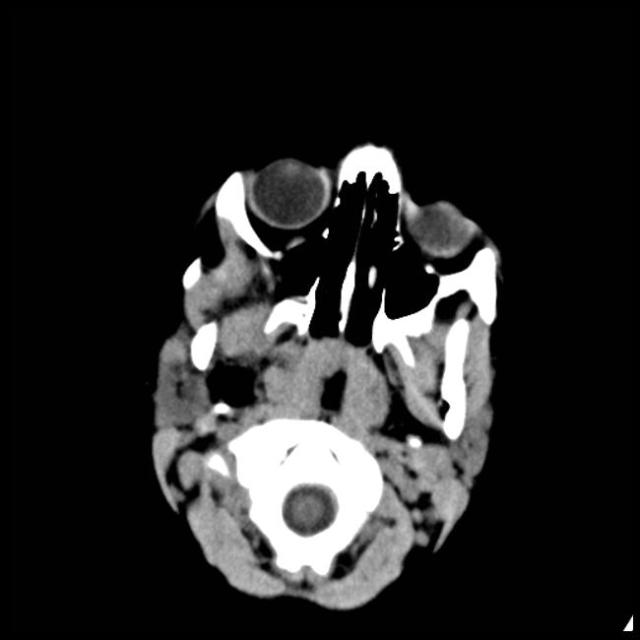lesion: (146, 138, 507, 613)
